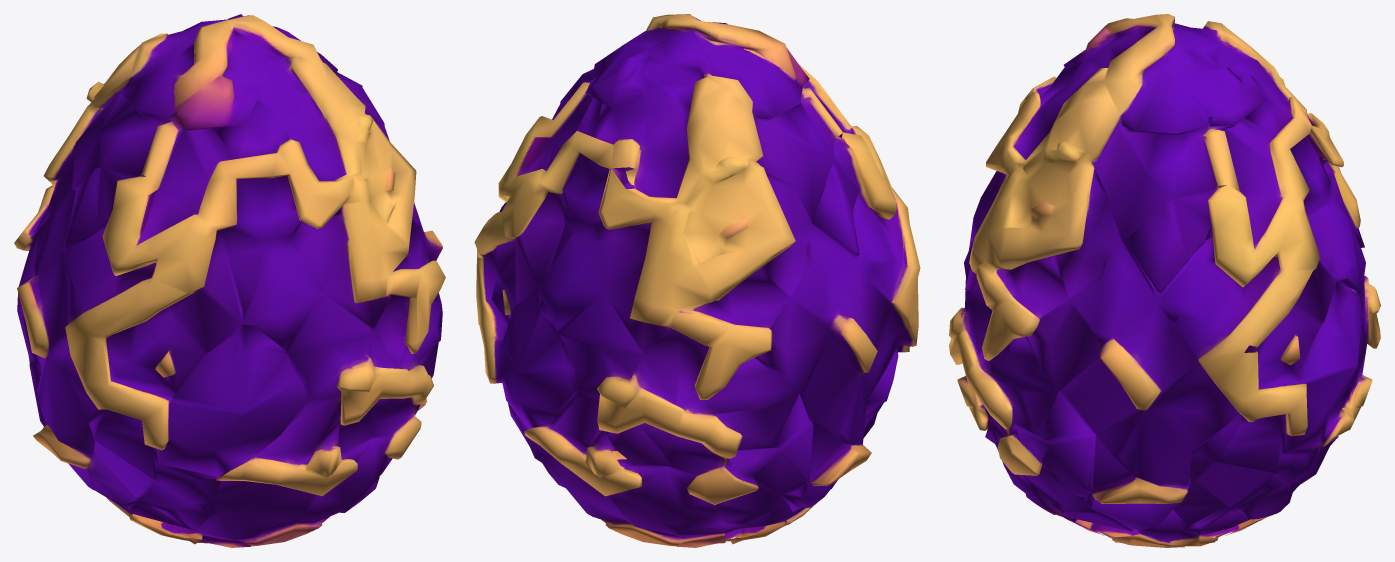
3 renders of one model, left to right at view 1: azimuth 30°, elevation 25°; view 2: azimuth 150°, elevation 25°; view 3: azimuth 270°, elevation 25°, orthographic.
Visible parts, largest first — view 1: tripo_node_e862ab66-70a7-4405-a7c9-07e86660b3de; view 2: tripo_node_e862ab66-70a7-4405-a7c9-07e86660b3de; view 3: tripo_node_e862ab66-70a7-4405-a7c9-07e86660b3de.
Part boxes in pixels (x1,y1,x2,y2): tripo_node_e862ab66-70a7-4405-a7c9-07e86660b3de: [14, 14, 445, 547]; tripo_node_e862ab66-70a7-4405-a7c9-07e86660b3de: [474, 14, 920, 547]; tripo_node_e862ab66-70a7-4405-a7c9-07e86660b3de: [949, 14, 1380, 547].
Bounding box in the file's own units: 0.7926 × 1 × 0.7965.
1 material, 1 textured.
